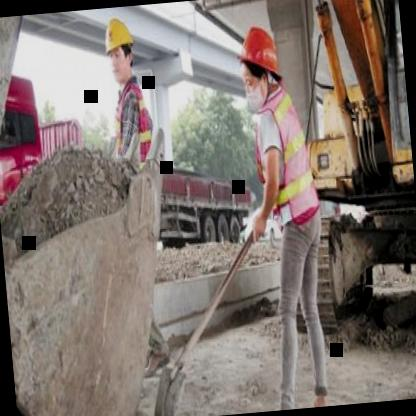helmet: (234, 17, 287, 115), (101, 7, 140, 92)
